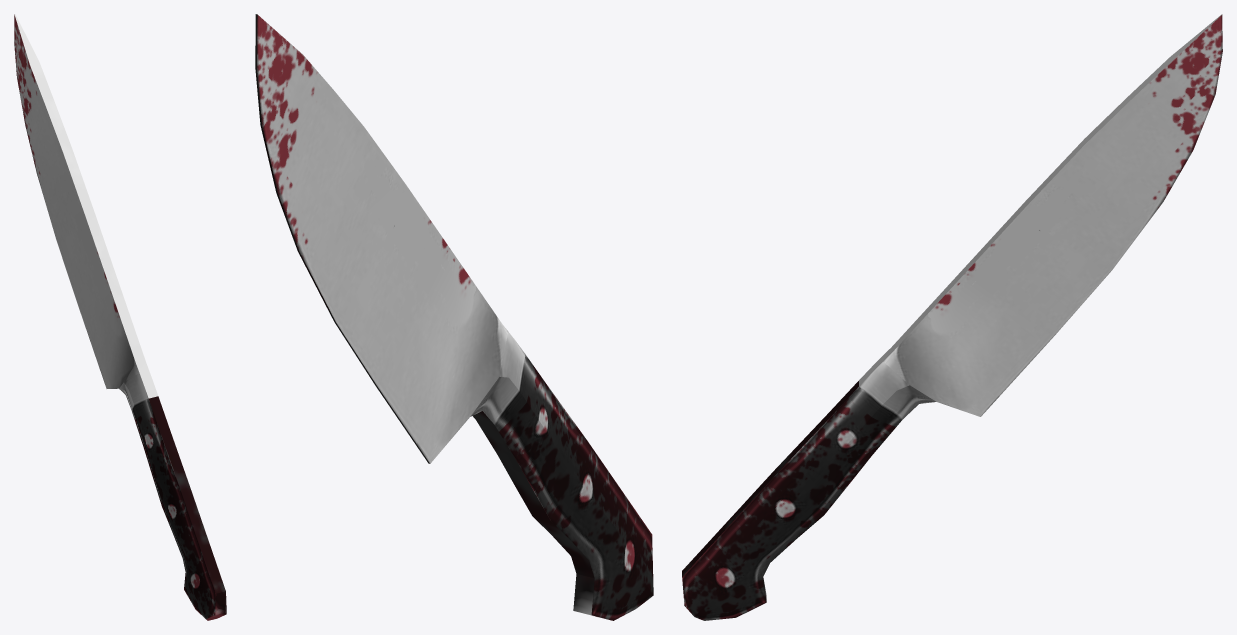
File: Faca.fbx
3 renders of one model, left to right at view 1: azimuth 30°, elevation 25°; view 2: azimuth 150°, elevation 25°; view 3: azimuth 270°, elevation 25°, orthographic. The views are drawn at different scales.
Visible parts, largest first — view 1: Faca; view 2: Faca; view 3: Faca.
Part boxes in pixels (x1,y1,x2,y2): Faca: (14, 14, 226, 620); Faca: (255, 14, 653, 620); Faca: (682, 14, 1222, 620).
Bounding box in the file's own units: 5.88 × 125 × 101.
1 material, 1 textured.
